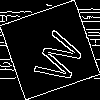W: (25, 25, 87, 88)
